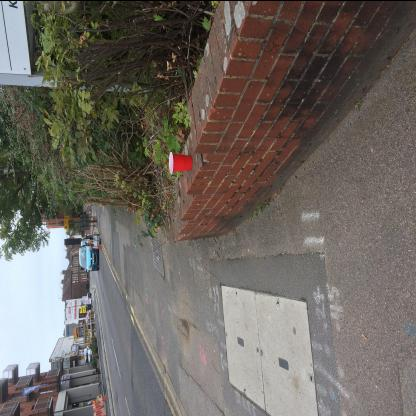plastik: (168, 150, 192, 174)
